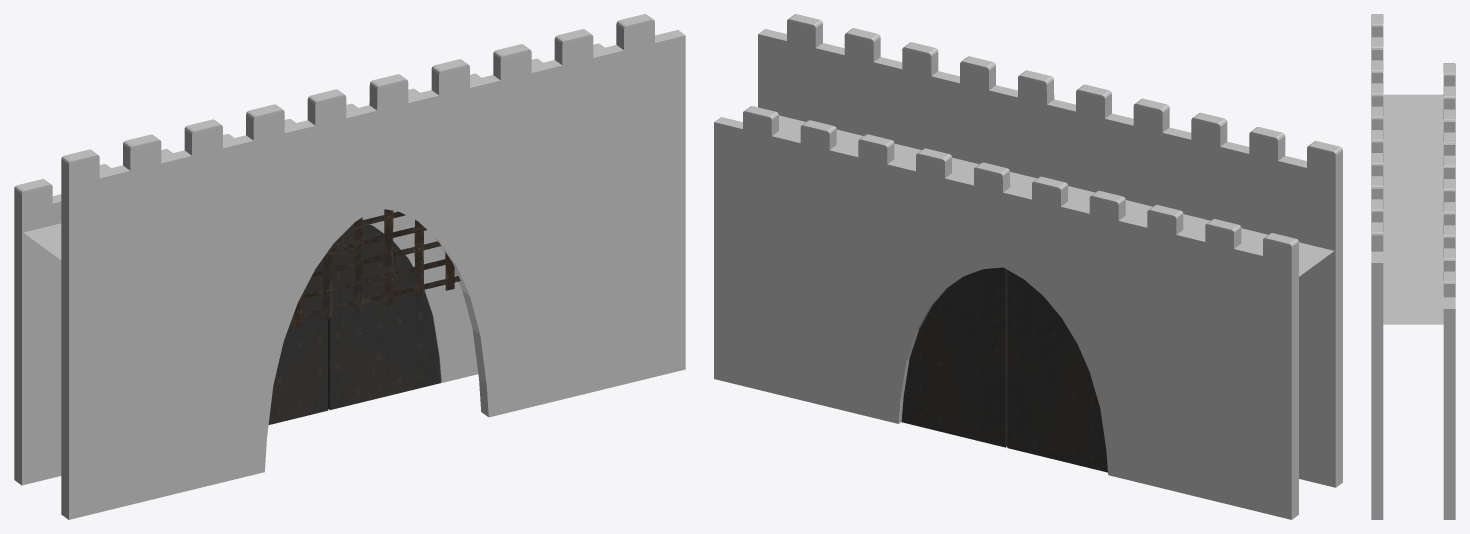
File: castleGate.fbx
3 views of the same model, side by side, from view 1: azimuth 30°, elevation 25°; view 2: azimuth 150°, elevation 25°; view 3: azimuth 270°, elevation 25° (orthographic). The views are drawn at different scales.
Parts seen in each view (by area): view 1: GateHouse, mainGateL, movableGate, mainGateR; view 2: GateHouse, mainGateL, mainGateR; view 3: GateHouse.
Boxes of the visible parts, x1,y1,x2,y2 form: GateHouse: (14,14,685,519); mainGateL: (328,224,440,409); movableGate: (291,209,460,327); mainGateR: (268,258,328,424); GateHouse: (714,14,1342,519); mainGateL: (901,267,1007,447); mainGateR: (1007,270,1107,472); GateHouse: (1371,14,1455,519).
Size of the model in its own units: 600 by 333 by 92.06.
